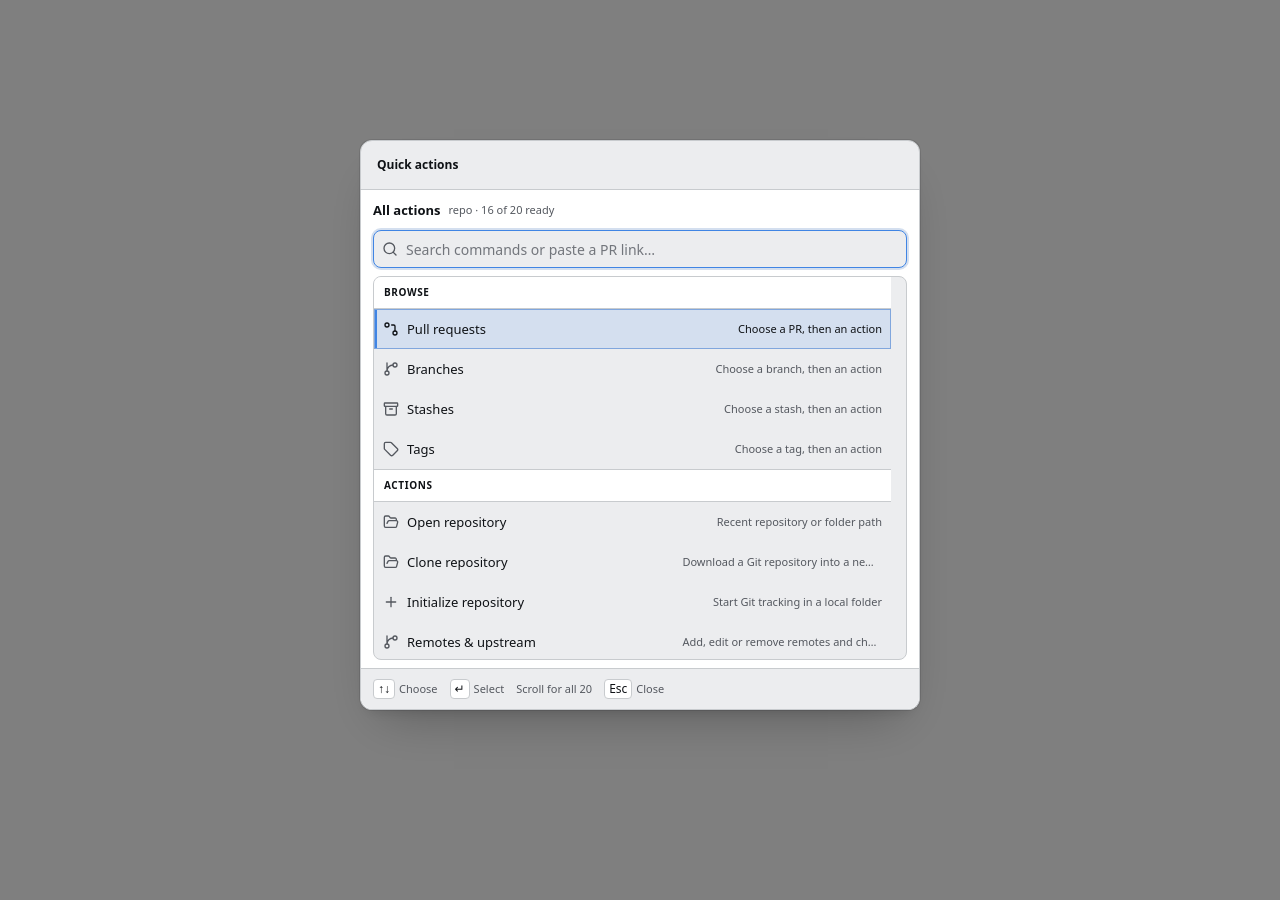
it: AppCommandPalette › typing narrows commands and scopes
Type "stage" into the field named "Search actions" at (652, 249), box [406,231,898,267]
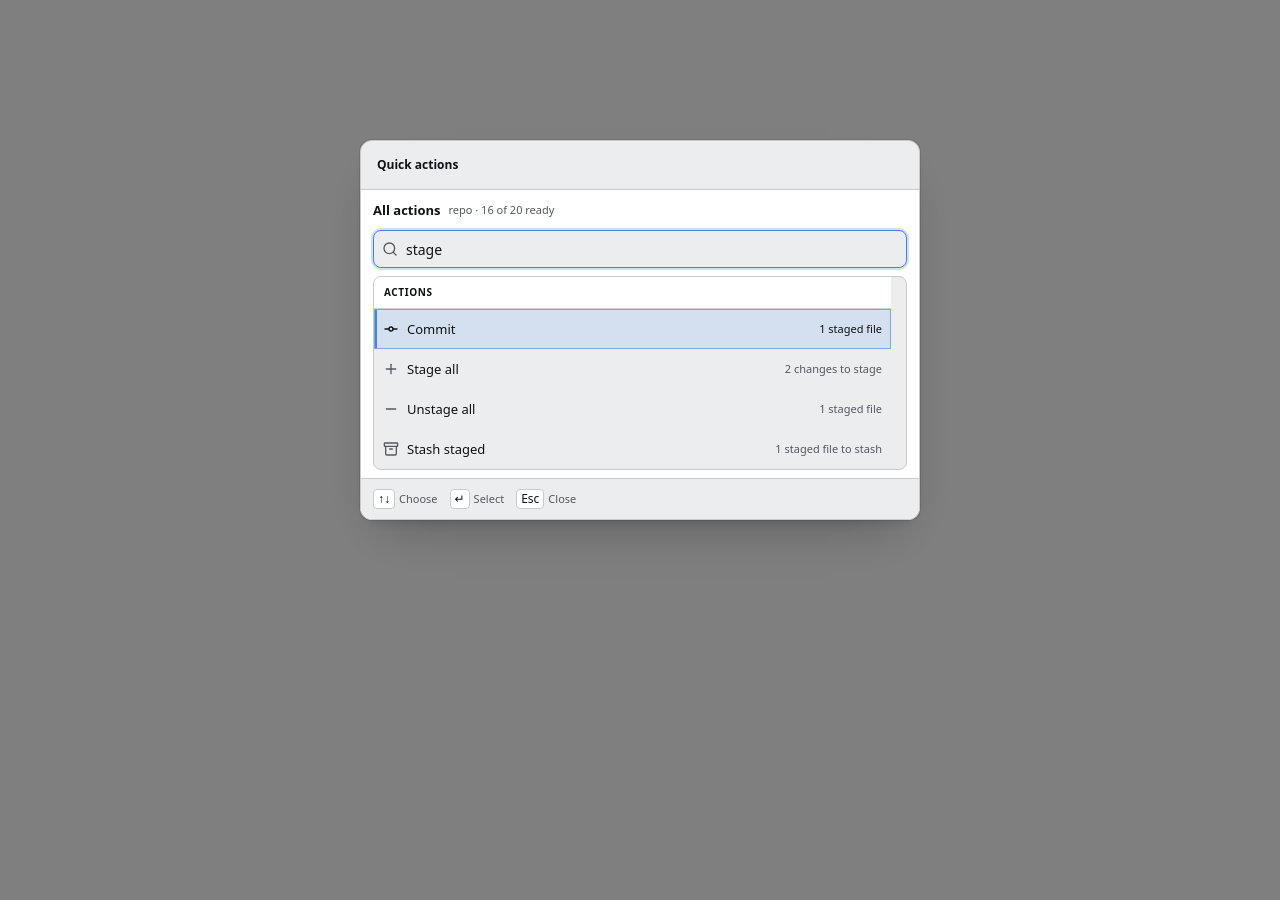
Expected: the button "Fetch" is not shown
Result: the button "Stage all 2 changes to stage" is enabled at [374,349,891,389]
Result: the button "Stash staged 1 staged file to stash" is enabled at [374,429,891,469]
